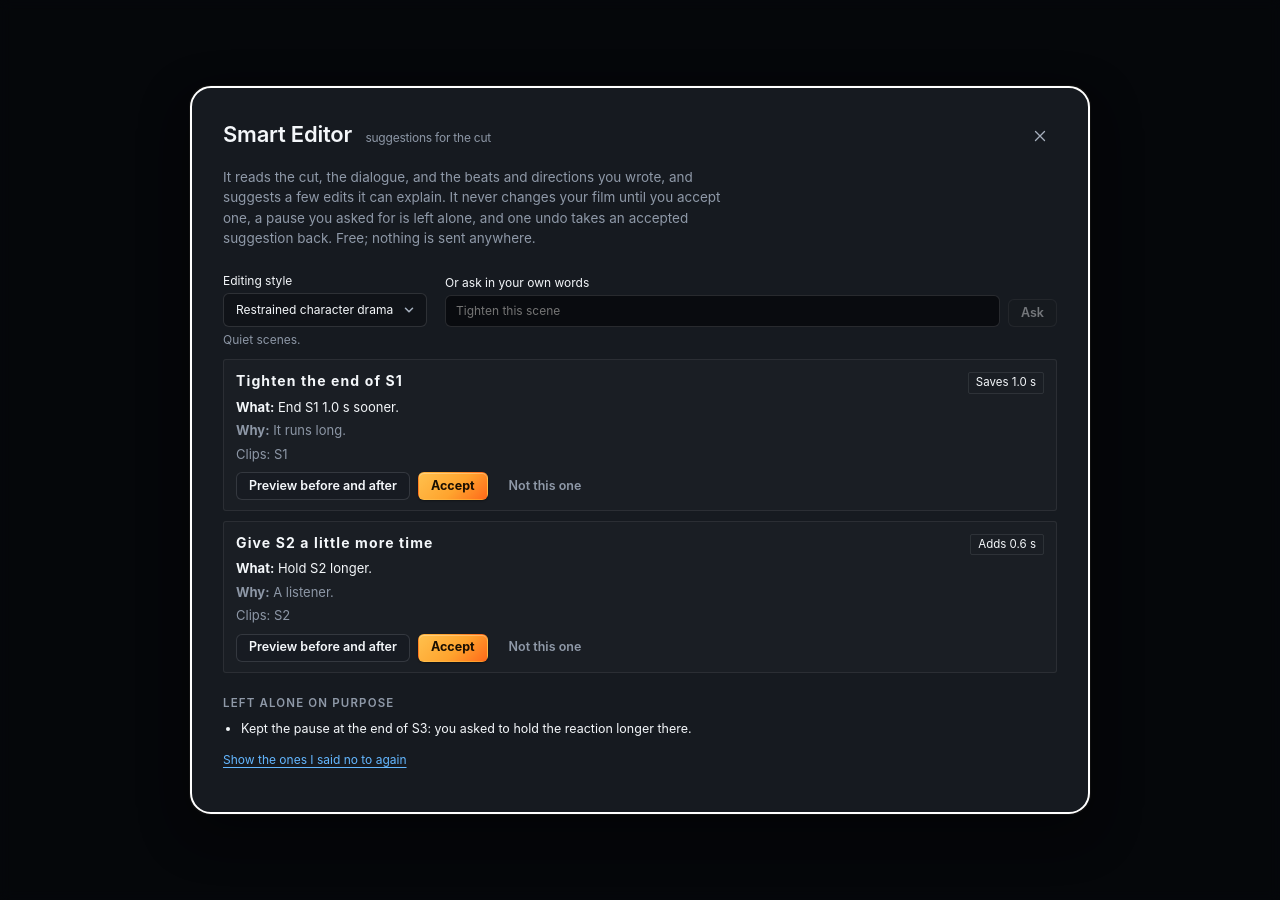
Test: the Smart Editor sheet › an engine refusal shows as an alert and keeps the suggestion on screen
What coordinates should you click on to do the following:
click the button "Accept" below "Tighten the end of S1"
I would click on:
 (453, 486)
Its box is 418,472 -> 488,500.
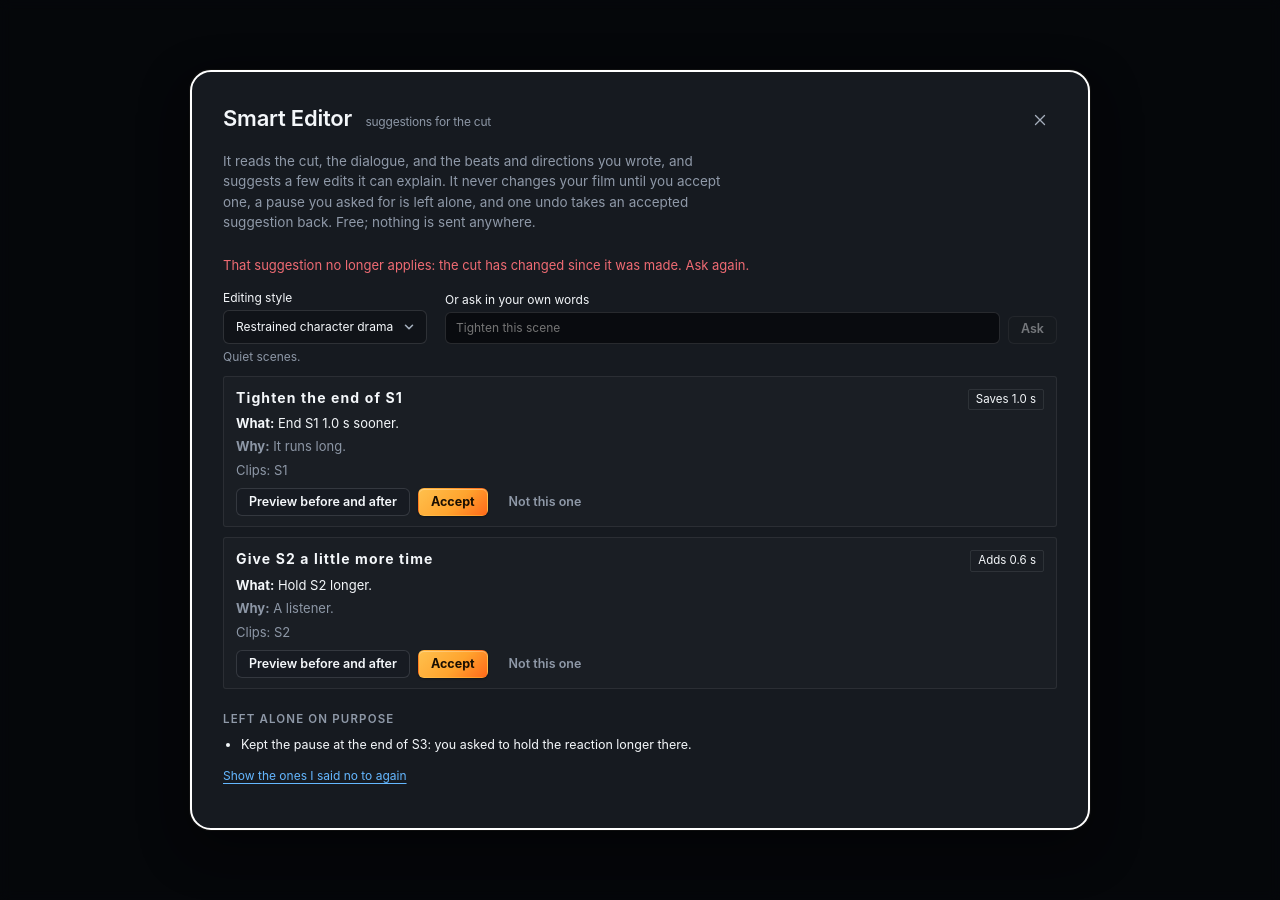
Expected: the list item "Tighten the end of S1" is shown, 223,376 -> 1057,527
Expected: the message shows "no longer applies", 223,257 -> 749,273
